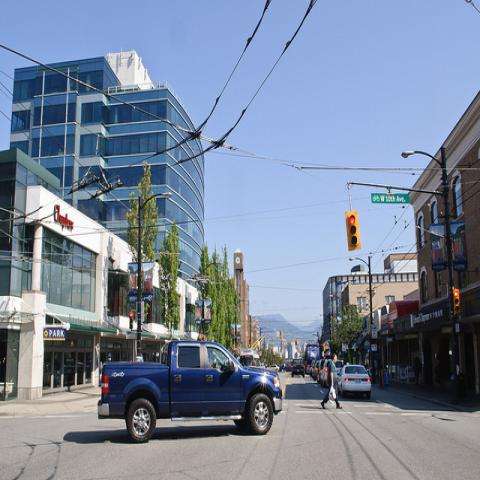car: (336, 364, 372, 399), (319, 358, 342, 387), (318, 359, 325, 383), (313, 361, 320, 381), (309, 360, 317, 376), (280, 363, 292, 373), (269, 364, 281, 372)
truck: (97, 341, 282, 444), (290, 358, 306, 378)
